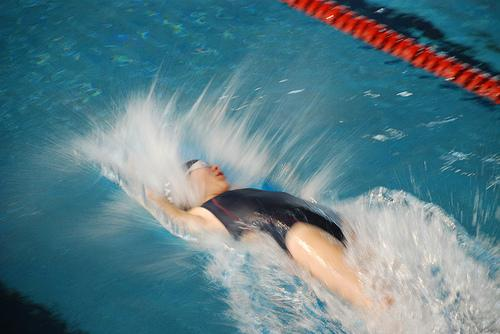human: (127, 150, 403, 332)
